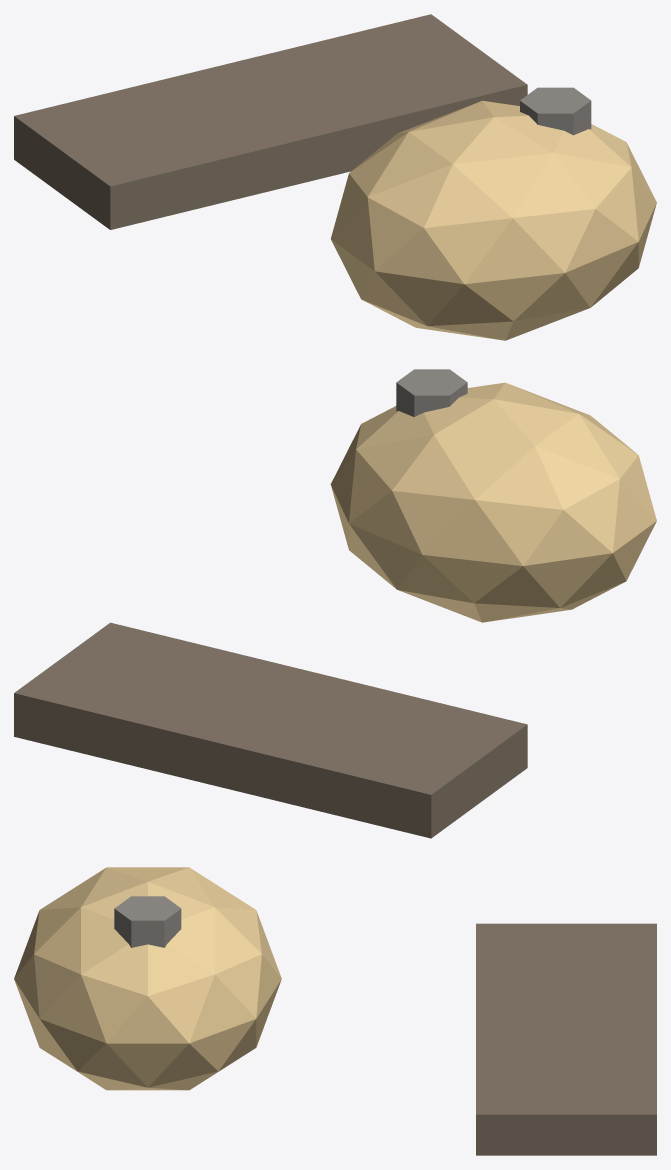
Rendered from lqv_lowpoly_typo_tatakua.glb.
3 views of the same model, one above another, from view 1: azimuth 30°, elevation 25°; view 2: azimuth 150°, elevation 25°; view 3: azimuth 270°, elevation 25° (orthographic). The views are drawn at different scales.
Parts seen in each view (by area): view 1: Typo_Tatakua_oven, Cube, Typo_Tatakua_chimney; view 2: Cube, Typo_Tatakua_oven, Typo_Tatakua_chimney; view 3: Typo_Tatakua_oven, Cube, Typo_Tatakua_chimney.
Part boxes in pixels (bbox=[...]): Typo_Tatakua_oven: bbox=[331, 100, 656, 340]; Cube: bbox=[14, 14, 527, 229]; Typo_Tatakua_chimney: bbox=[520, 87, 591, 135]; Cube: bbox=[14, 622, 527, 838]; Typo_Tatakua_oven: bbox=[330, 382, 656, 622]; Typo_Tatakua_chimney: bbox=[396, 369, 467, 416]; Typo_Tatakua_oven: bbox=[14, 867, 281, 1090]; Cube: bbox=[476, 923, 656, 1155]; Typo_Tatakua_chimney: bbox=[114, 896, 181, 947].
Size of the model in its own units: 2.7 by 1.29 by 3.84.
